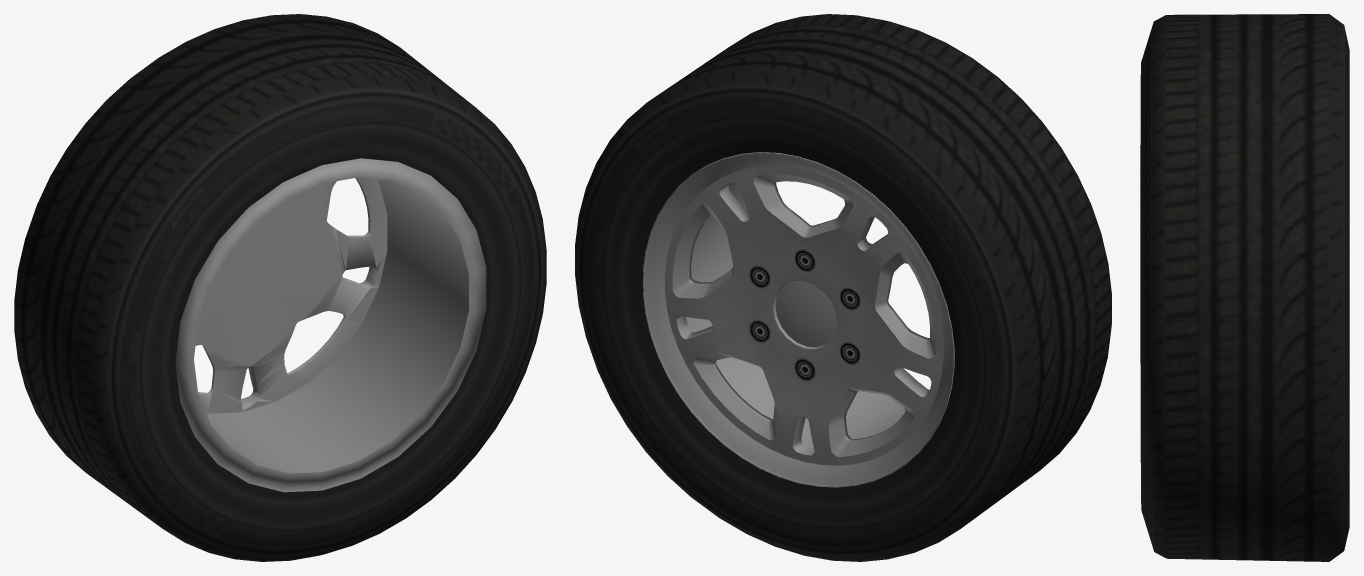
The picture shows the model from 3 angles, left to right: view 1: azimuth 30°, elevation 25°; view 2: azimuth 150°, elevation 25°; view 3: azimuth 270°, elevation 25°; orthographic projection. The views are drawn at different scales.
Parts seen in each view (by area): view 1: U803_3A_901B_L_1_DM_U803_3A_901B_L, U803_3A_901B_L_U803_3A_901B_L_2_DaS; view 2: U803_3A_901B_L_1_DM_U803_3A_901B_L, U803_3A_901B_L_U803_3A_901B_L_2_DaS, U803_3A_901B_L_U803_3A_901B_L_3_D; view 3: U803_3A_901B_L_1_DM_U803_3A_901B_L.
Boxes of the visible parts, box(x1,y1,x2,y2) form: U803_3A_901B_L_1_DM_U803_3A_901B_L: box(14, 14, 546, 561); U803_3A_901B_L_U803_3A_901B_L_2_DaS: box(175, 158, 486, 492); U803_3A_901B_L_1_DM_U803_3A_901B_L: box(575, 14, 1111, 561); U803_3A_901B_L_U803_3A_901B_L_2_DaS: box(643, 152, 954, 487); U803_3A_901B_L_U803_3A_901B_L_3_D: box(749, 249, 860, 381); U803_3A_901B_L_1_DM_U803_3A_901B_L: box(1140, 14, 1349, 561).
Size of the model in its own units: 70.79 by 70.84 by 27.
